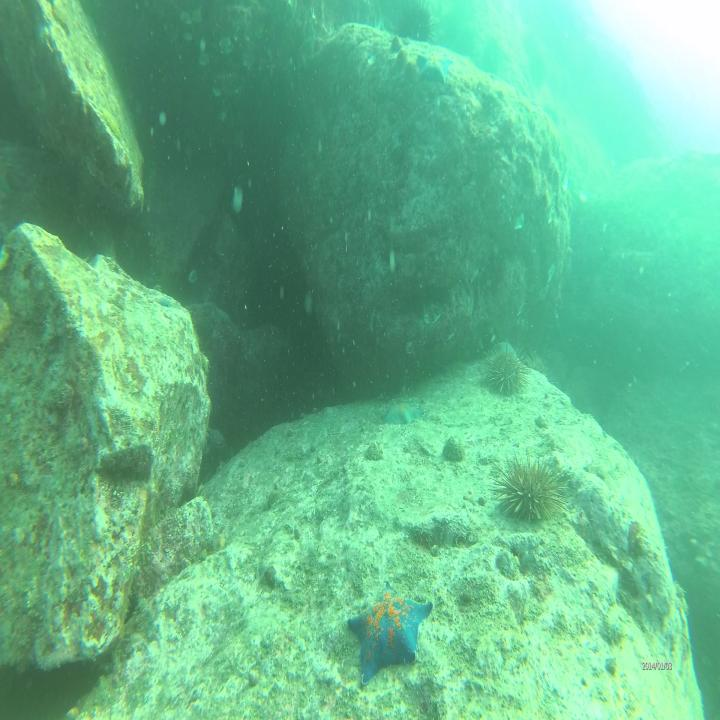echinus: (493, 448, 575, 530), (483, 338, 536, 395), (395, 2, 434, 42)
starfish: (347, 584, 434, 684), (417, 46, 454, 90)
